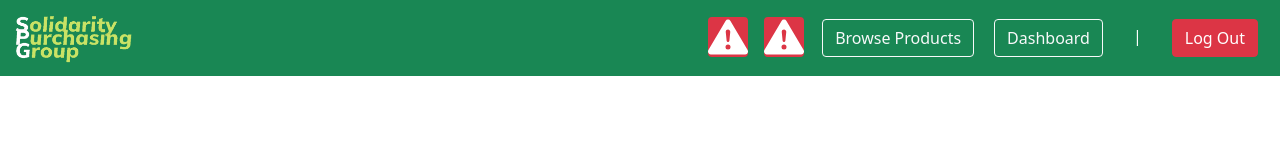
Scenario: Alert missed pickups
Expected: the button "Log Out" is shown, [1172,19,1258,57]
Hover over the icon with test id "missedPickupWarning": [784, 37] box [764,17,804,57]
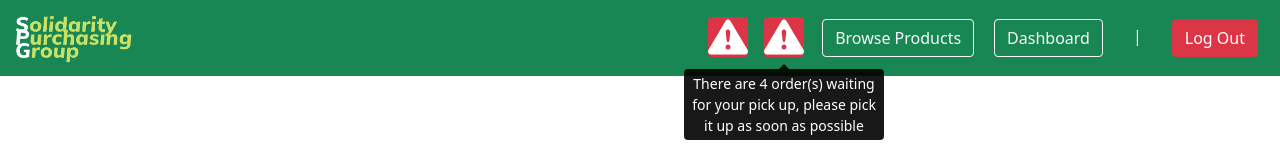
Result: the text "There are" is shown at [693,74,760,93]
Result: the text "4" is shown at [760,74,768,93]
Result: the text "order(s) waiting for your pick up, please pick it up as soon as possible" is shown at [692,74,876,135]
